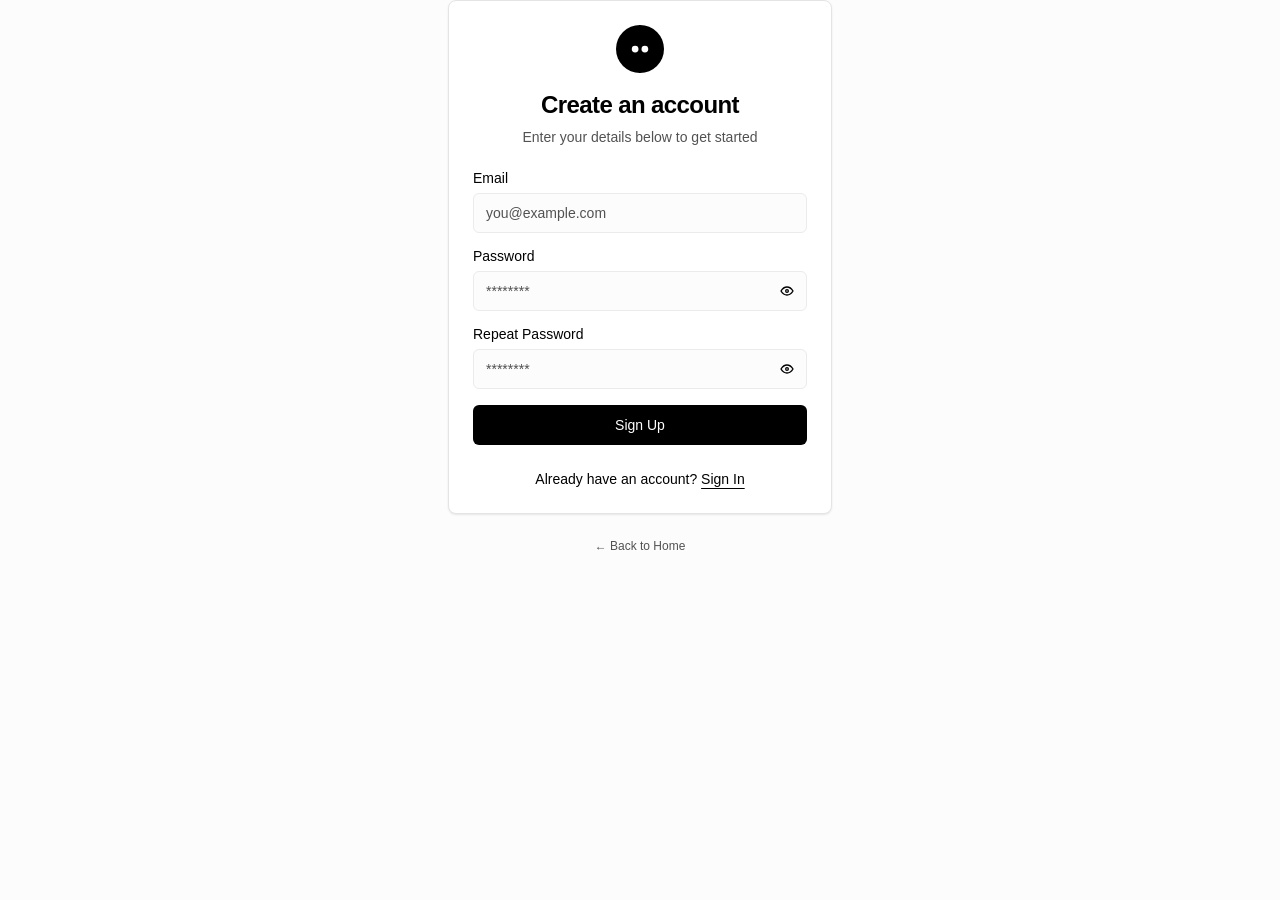
Test: SignUpForm › shows a notice and stays on the page when sign-up continues out-of-band
Type "new@example.com" into the field labelled "Email" at (640, 213), box [473,193,807,233]
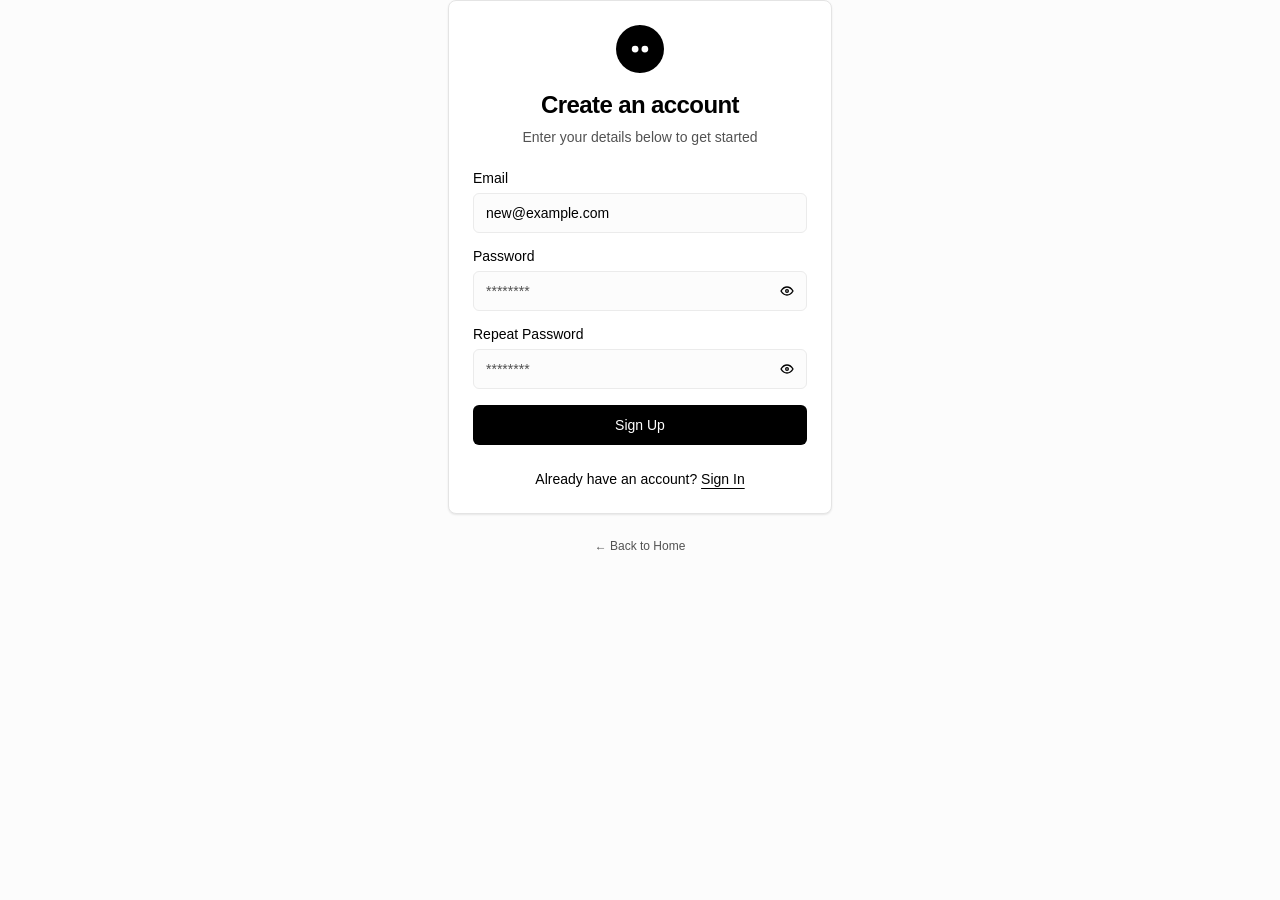
Type "secret-password" into the password field labelled "Password" at (640, 291), box [473,271,807,311]
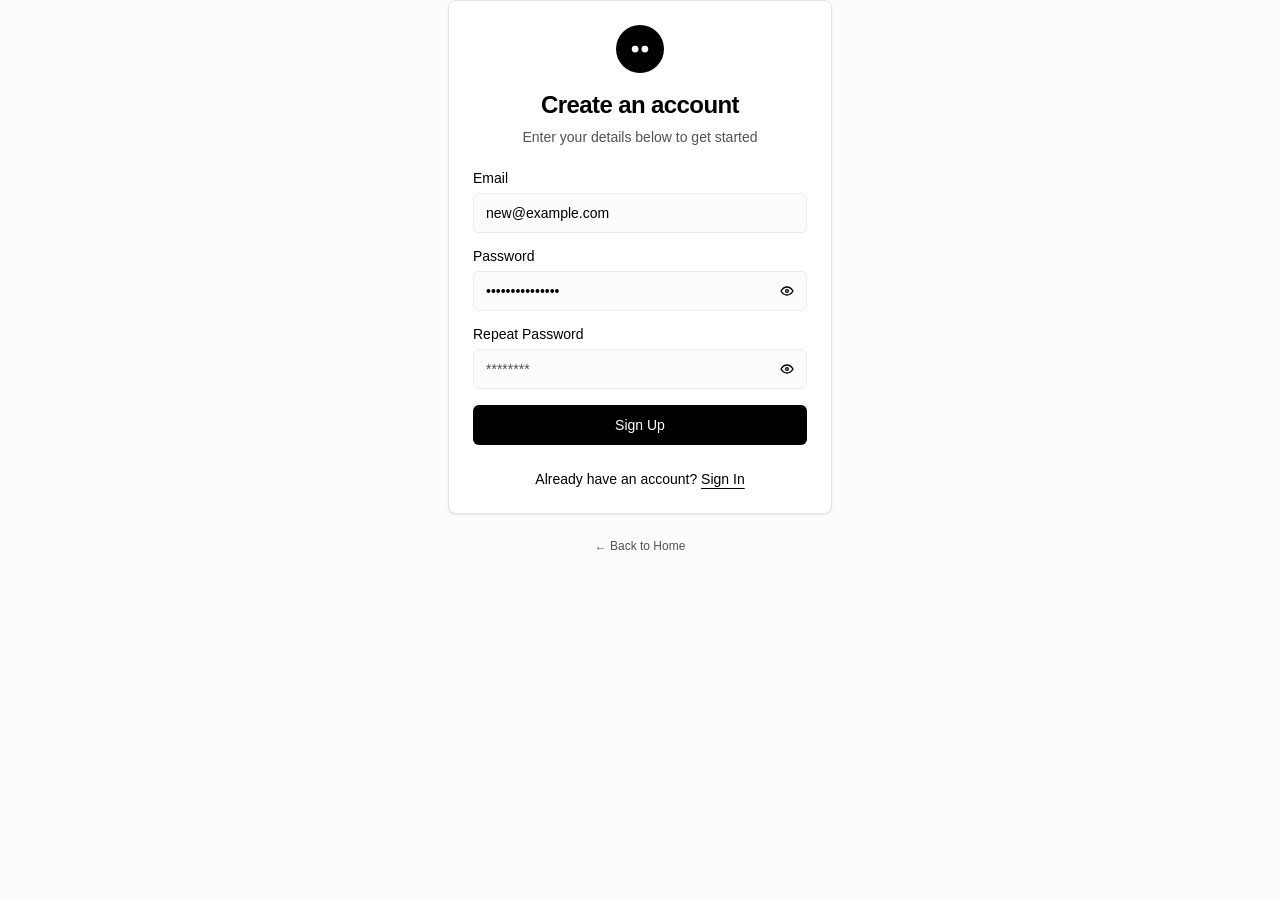
Type "secret-password" into the password field labelled "Repeat Password" at (640, 369), box [473,349,807,389]
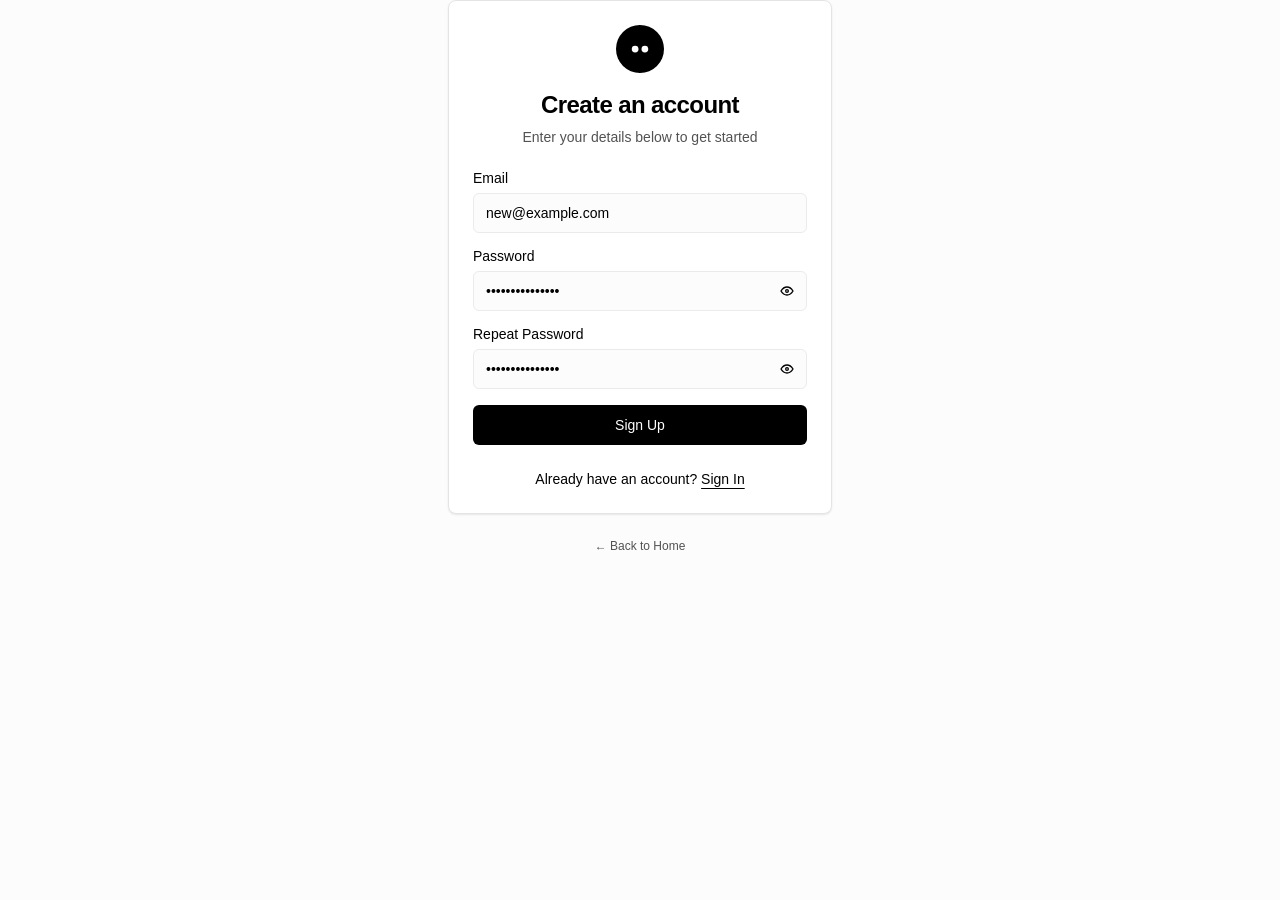
Click the button "Sign Up" at (640, 425), box [473,405,807,445]
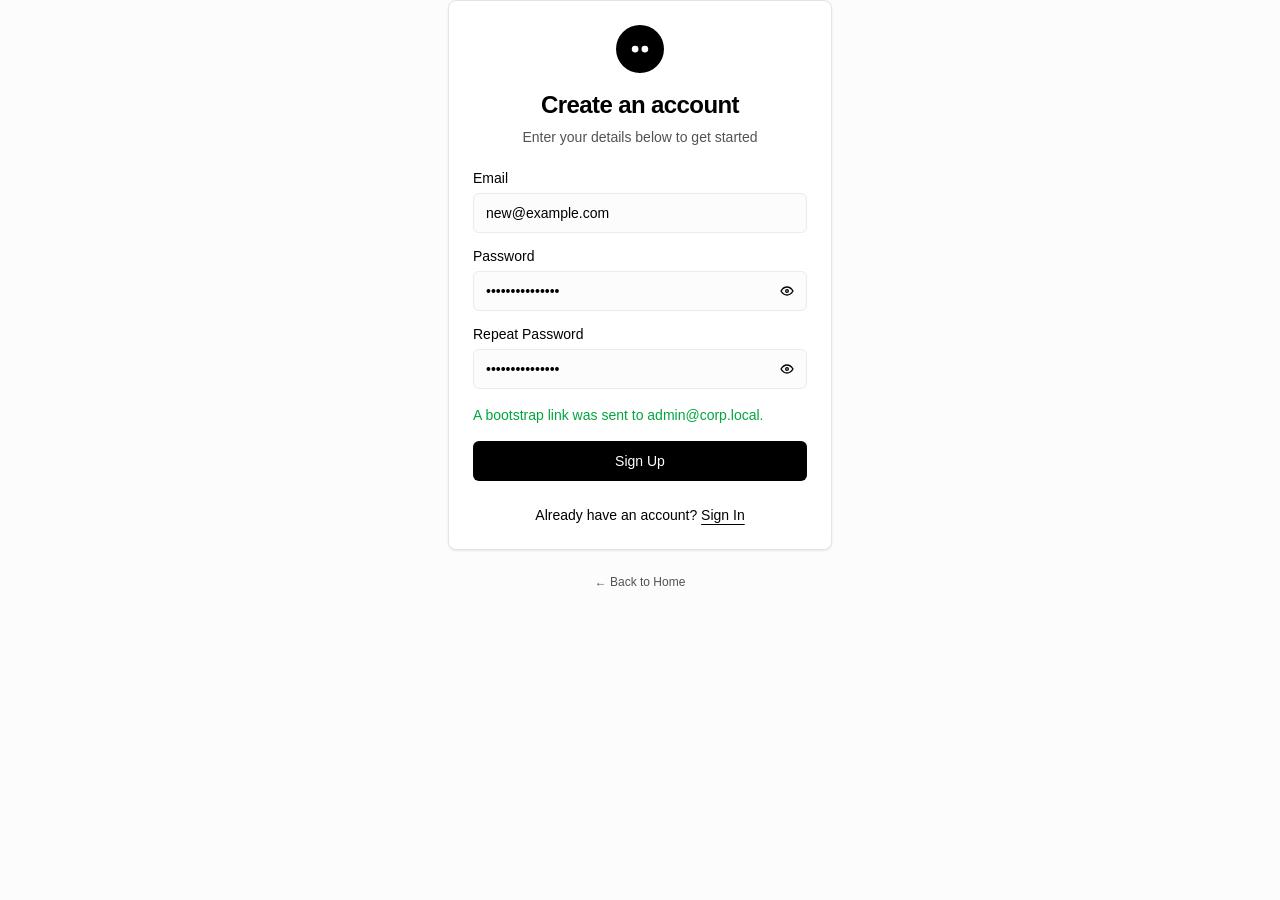
Result: the text "A bootstrap link was sent to admin@corp.local." is shown at [473,405,807,425]
